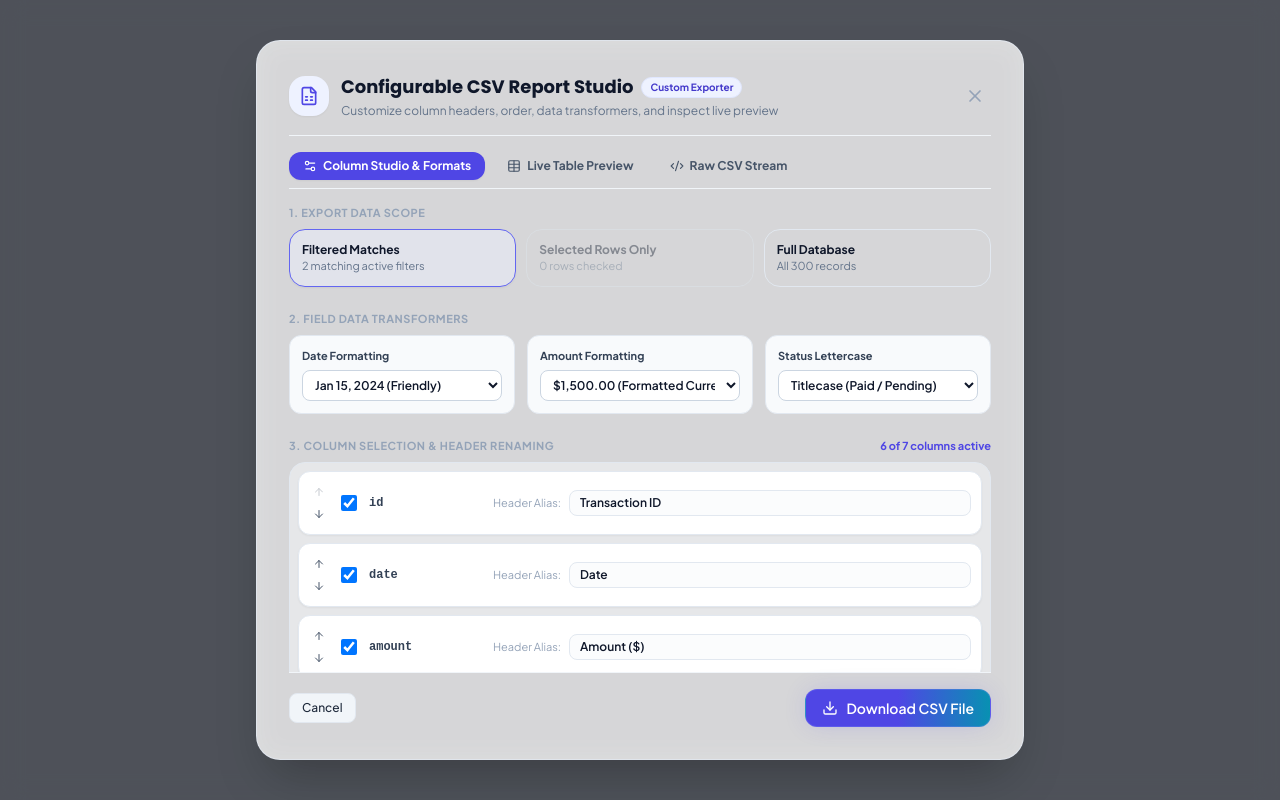
Test: CsvExportModal Component › switches to live table preview tab and displays columns
This screenshot has width=1280, height=800.
What coordinates should you click on to do the following:
click the button "Live Table Preview"
I would click on:
 (570, 166)
Its box is [493,152,648,180].
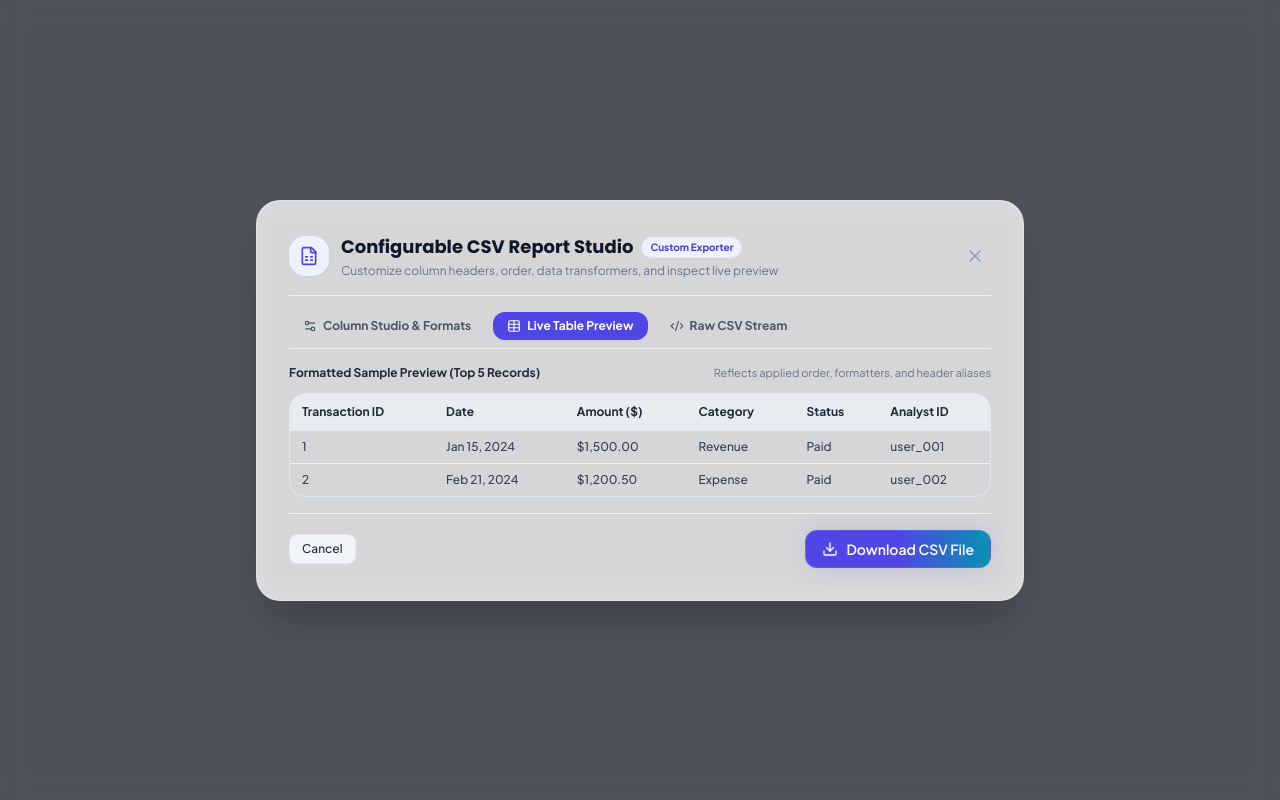
Check: the text "Formatted Sample Preview (Top 5 Records)" is shown, box [289,364,540,380]
Check: the text "$1,500.00" is shown, box [565,430,686,463]
